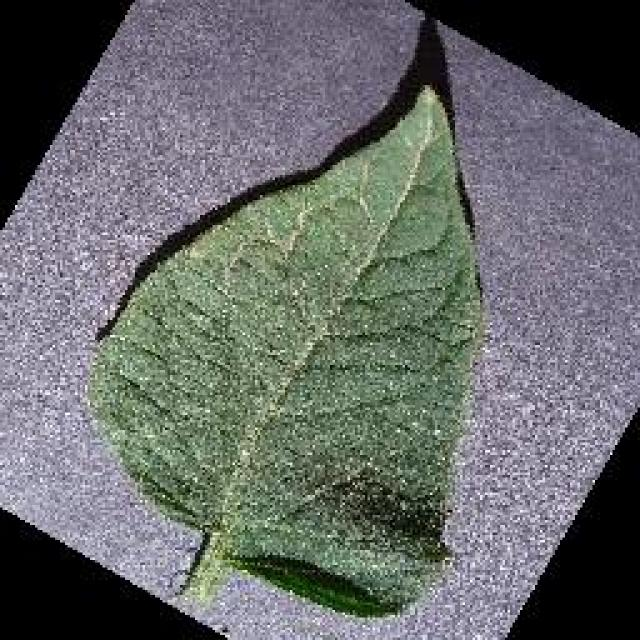Tomato___healthy: (93, 81, 484, 617)
